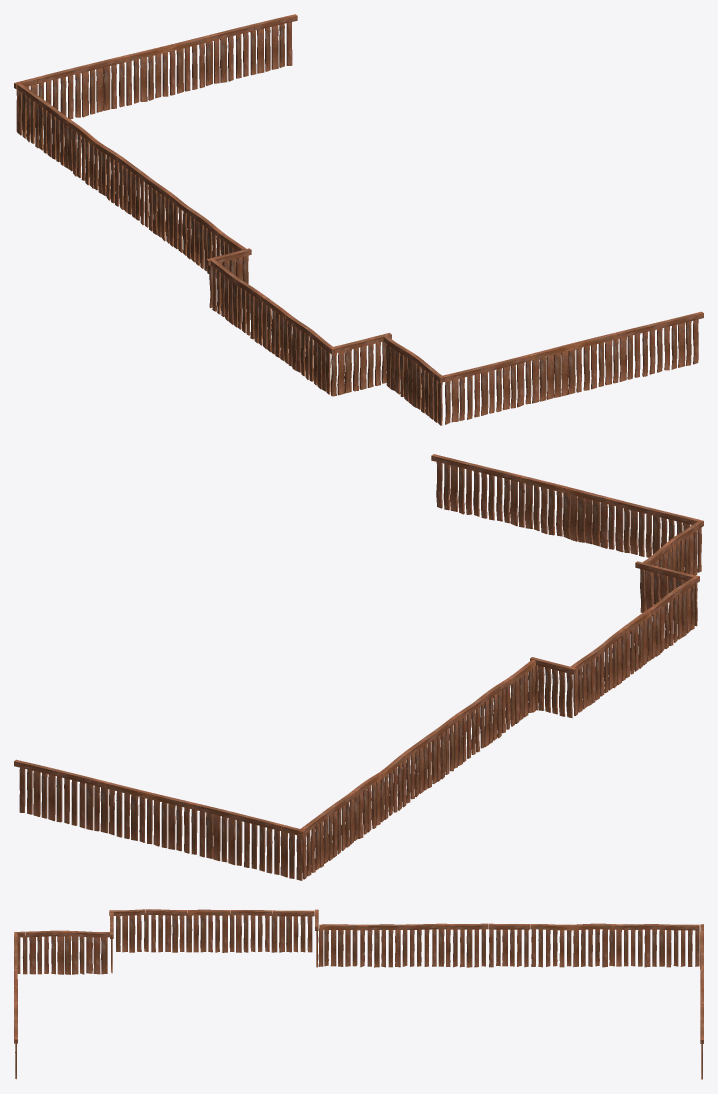
The model's file is MSH_Piso2_Barandal.FBX.
3 renders of one model, top to bottom at view 1: azimuth 30°, elevation 25°; view 2: azimuth 150°, elevation 25°; view 3: azimuth 270°, elevation 25°, orthographic. The views are drawn at different scales.
Visible parts, largest first — view 1: MSH_Piso2_Barandal; view 2: MSH_Piso2_Barandal; view 3: MSH_Piso2_Barandal.
Part boxes in pixels (x1,y1,x2,y2): MSH_Piso2_Barandal: [14, 14, 703, 425]; MSH_Piso2_Barandal: [14, 454, 703, 880]; MSH_Piso2_Barandal: [14, 909, 703, 1079].
Bounding box in the file's own units: 276 × 42.59 × 616.
Materials: 1 (1 with a texture image).
